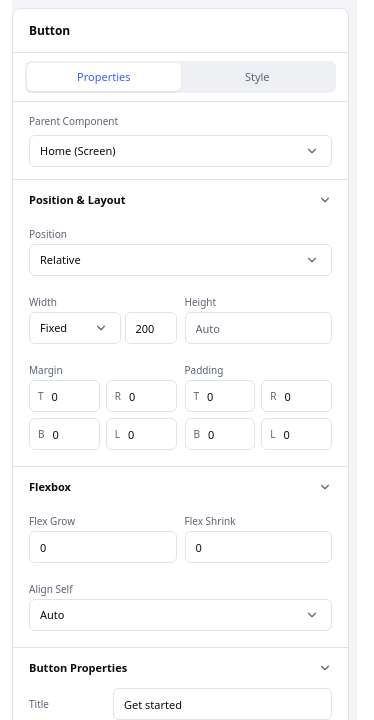
Test case: position and layout inspector › points the dropdown caret up while the menu is open
Click the dropdown named "Position" at (60, 259), box [29,244,332,276]
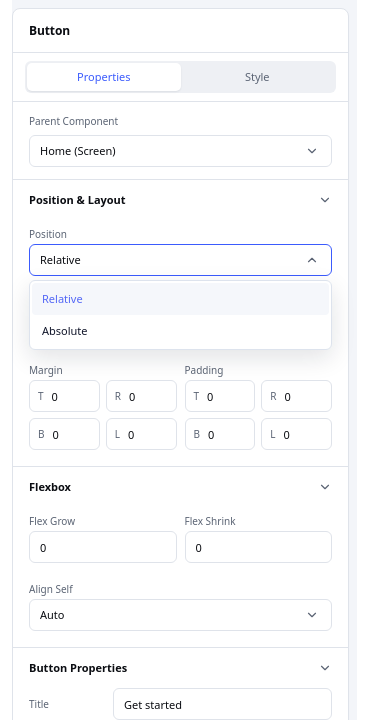
expect the option "Absolute" is shown: met, box [42,323,88,338]
expect the list "Absolute" is shown: met, box [29,280,332,350]
